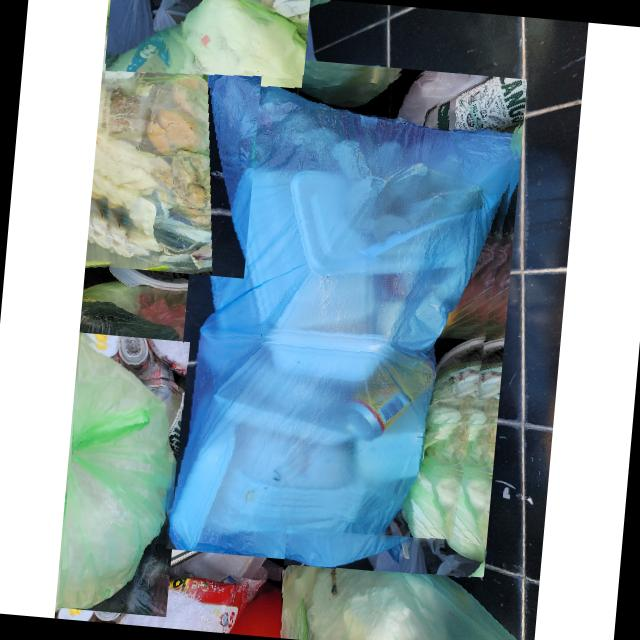general_trashbag: (103, 58, 257, 272), (57, 341, 174, 609), (279, 531, 515, 640), (108, 0, 304, 79)
other_trashbag: (174, 62, 513, 561)
